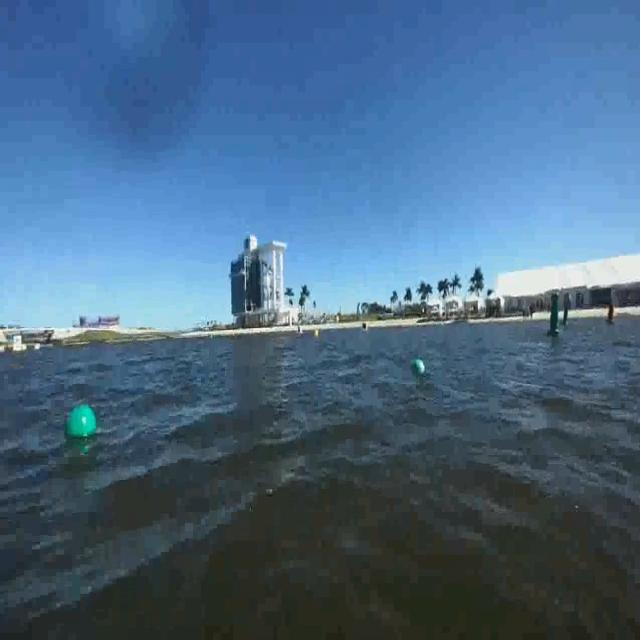green-buoy: (66, 404, 99, 440), (413, 359, 424, 375)
green-column-buoy: (548, 292, 562, 336), (561, 294, 572, 327)
red-column-buoy: (606, 302, 615, 325)
yellow-buoy: (314, 328, 320, 338)
